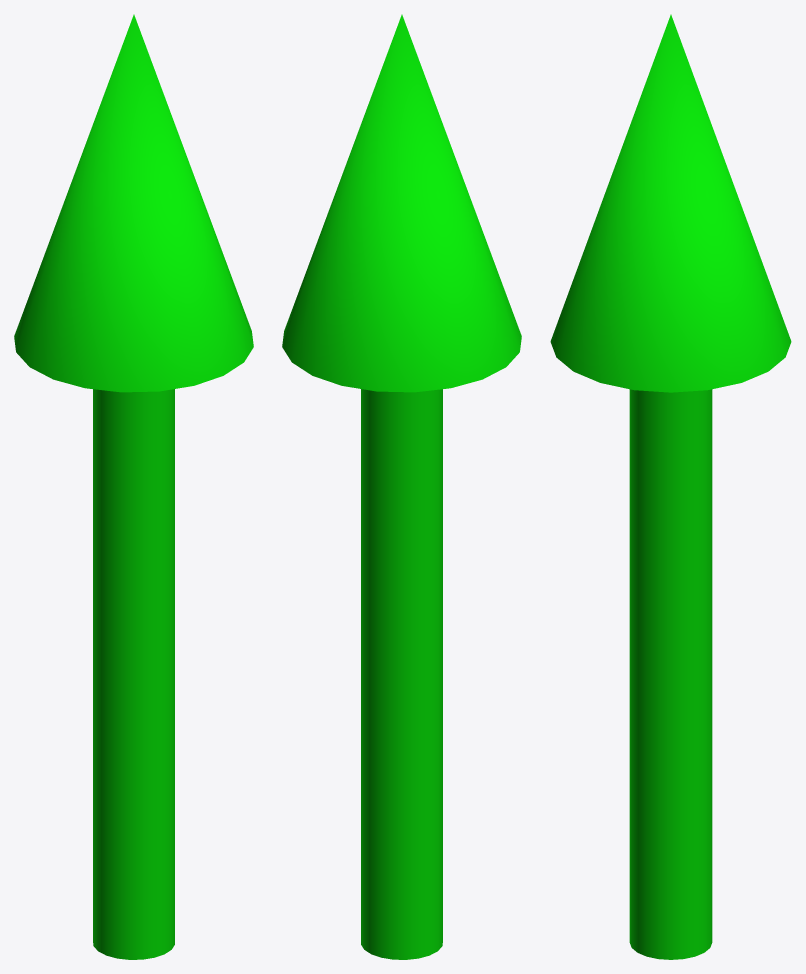
Rendered from Y_Arrow.fbx.
3 views of the same model, side by side, from view 1: azimuth 30°, elevation 25°; view 2: azimuth 150°, elevation 25°; view 3: azimuth 270°, elevation 25° (orthographic).
Visible parts, largest first — view 1: pCone2; view 2: pCone2; view 3: pCone2.
Part boxes in pixels (x1,y1,x2,y2): pCone2: (14,14,253,959); pCone2: (282,14,521,959); pCone2: (550,14,791,959).
Bounding box in the file's own units: 1 × 4.25 × 1.
